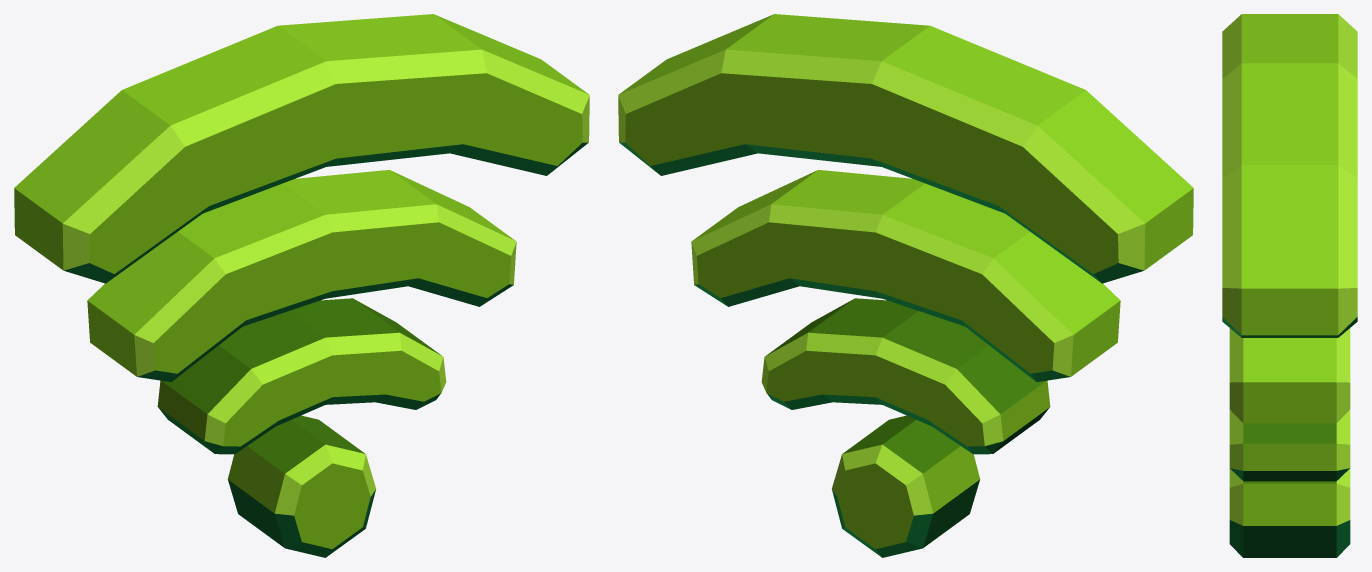
Rendered from 3d_HealthPoints.fbx.
The picture shows the model from 3 angles, left to right: view 1: azimuth 30°, elevation 25°; view 2: azimuth 150°, elevation 25°; view 3: azimuth 270°, elevation 25°; orthographic projection.
Visible parts, largest first — view 1: GEO_HealthPoints; view 2: GEO_HealthPoints; view 3: GEO_HealthPoints.
Part boxes in pixels (<box>): GEO_HealthPoints: <box>14,14,589,557</box>; GEO_HealthPoints: <box>618,14,1193,557</box>; GEO_HealthPoints: <box>1222,14,1357,557</box>.
Size of the model in its own units: 0.8812 by 0.1972 by 0.7945.
